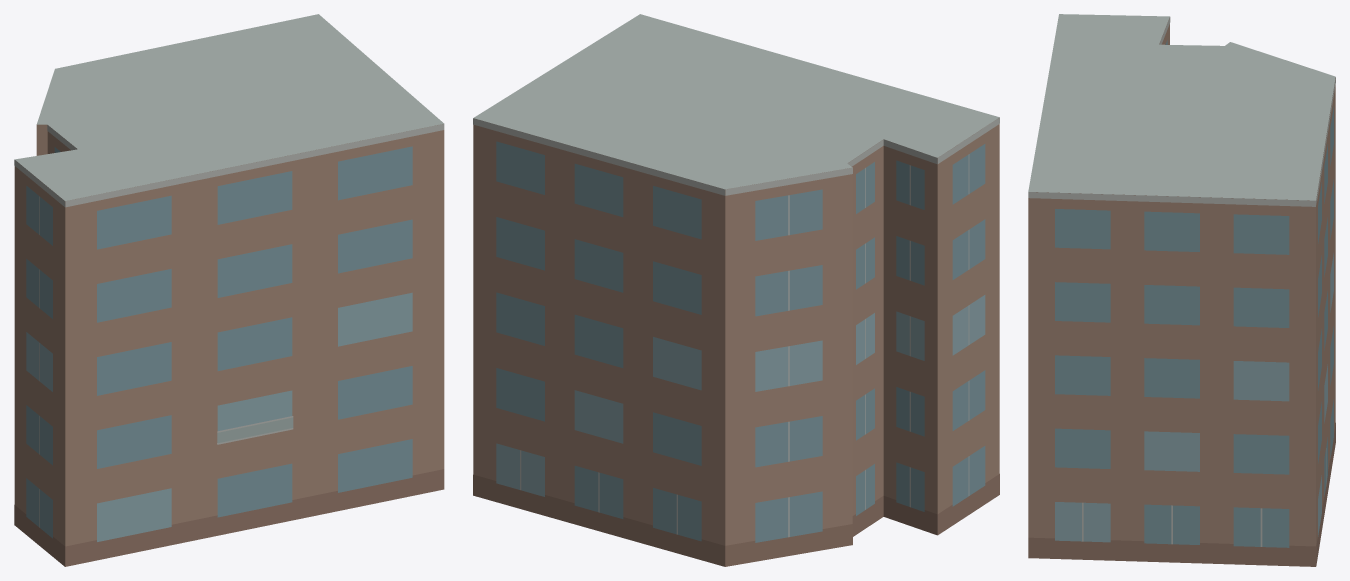
The model's file is survey-upis-32872975.glb.
3 views of the same model, side by side, from view 1: azimuth 30°, elevation 25°; view 2: azimuth 150°, elevation 25°; view 3: azimuth 270°, elevation 25° (orthographic). The views are drawn at different scales.
Parts seen in each view (by area): view 1: survey-upis-32872975.tmp; view 2: survey-upis-32872975.tmp; view 3: survey-upis-32872975.tmp.
Part boxes in pixels (x1,y1,x2,y2): survey-upis-32872975.tmp: (14,14,444,566); survey-upis-32872975.tmp: (473,14,999,566); survey-upis-32872975.tmp: (1028,14,1335,566).
Size of the model in its own units: 15.53 by 14.2 by 10.82.
